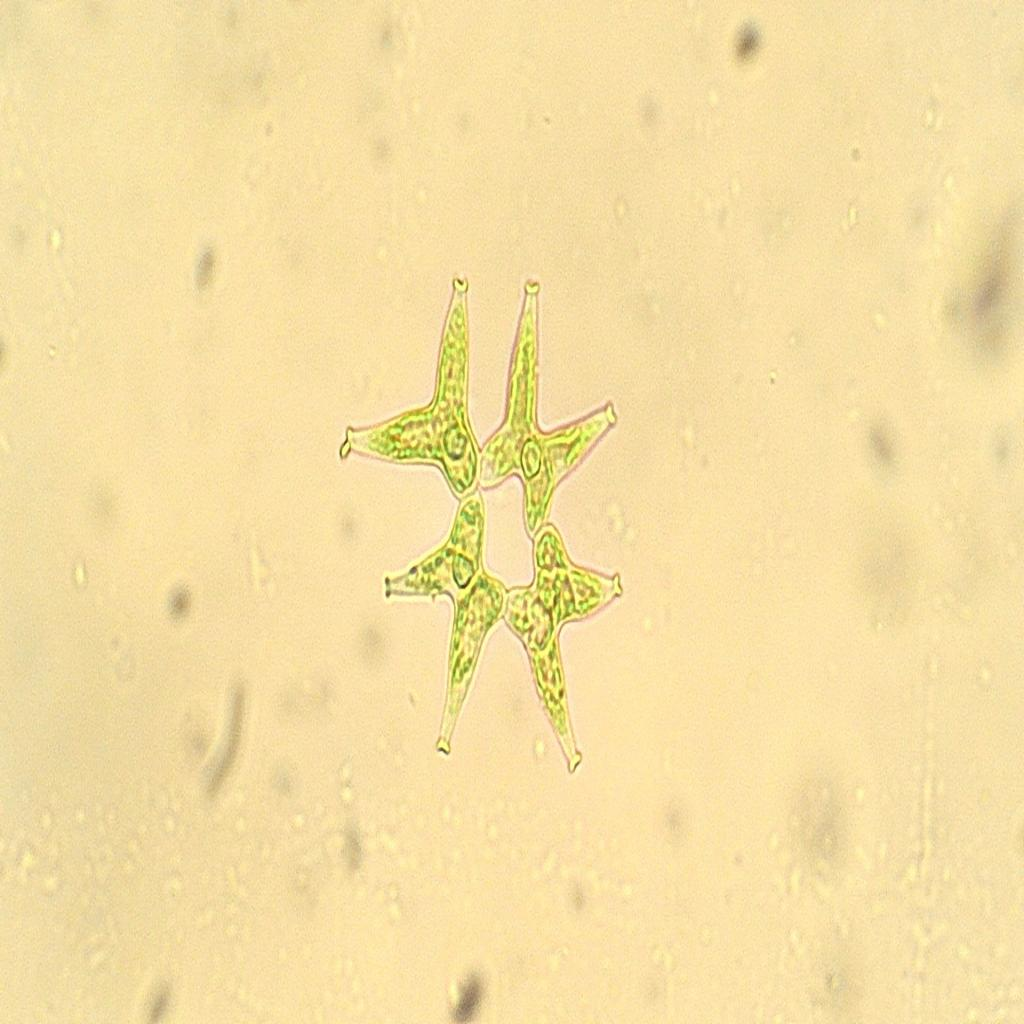Pediastrum_CT: (337, 254, 640, 815)
